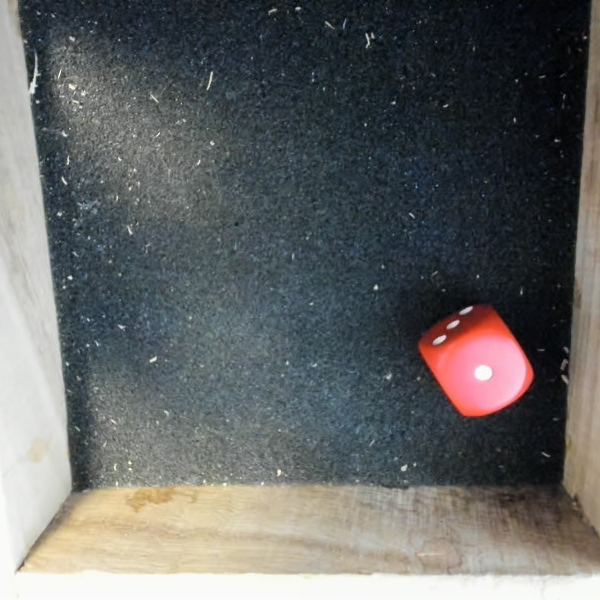red_die_pip1: (403, 285, 549, 437)
